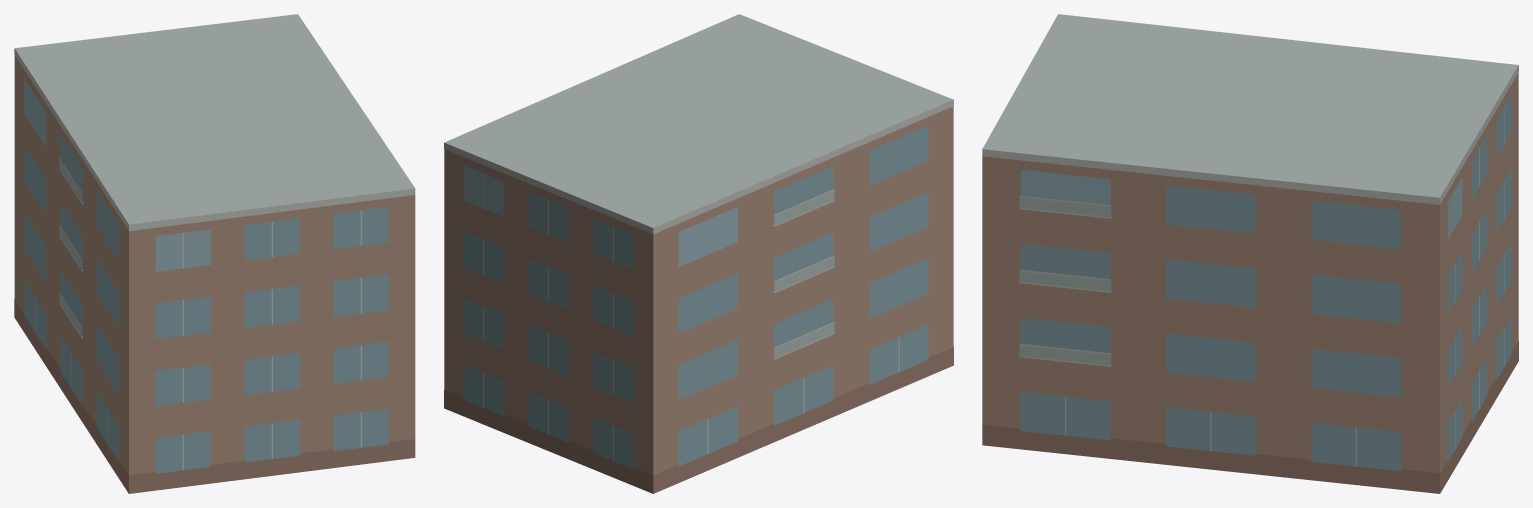
Rendered from survey-upis-33002573.glb.
3 renders of one model, left to right at view 1: azimuth 30°, elevation 25°; view 2: azimuth 150°, elevation 25°; view 3: azimuth 270°, elevation 25°, orthographic. The views are drawn at different scales.
Visible parts, largest first — view 1: survey-upis-33002573.tmp; view 2: survey-upis-33002573.tmp; view 3: survey-upis-33002573.tmp.
Boxes of the visible parts, x1,y1,x2,y2 form: survey-upis-33002573.tmp: (14,14,415,493); survey-upis-33002573.tmp: (444,14,953,493); survey-upis-33002573.tmp: (982,14,1518,493).
Size of the model in its own units: 13.6 by 10.2 by 16.77.
